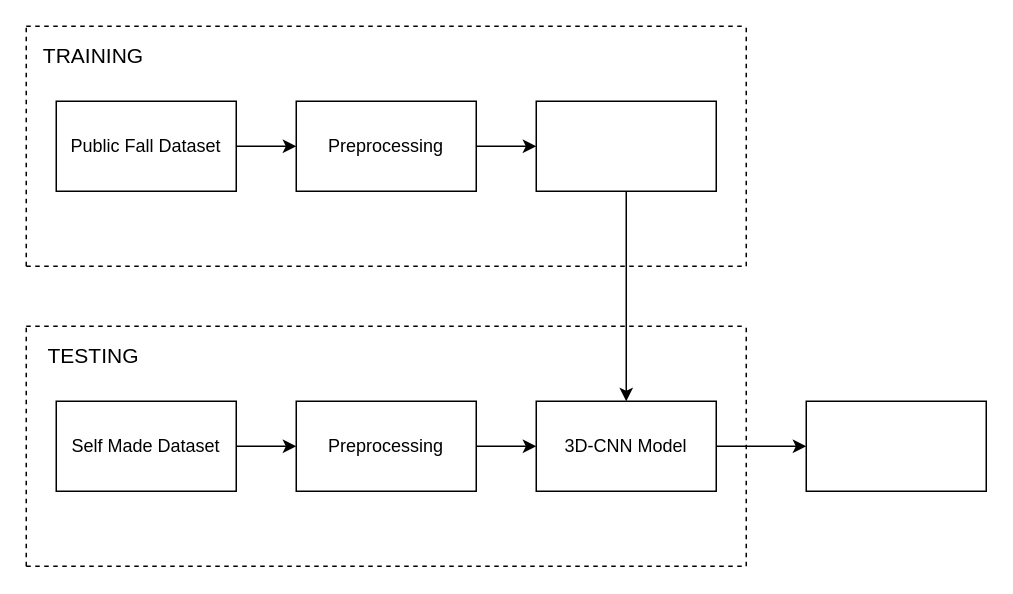
This 1013x594 diagram has some shape labels left out. Here are the shapes that lost their labels. From the top down, the centre of each, then its label:
the point at 625,145: 3D-CNN Model Training
the point at 895,445: Pendeteksi Jatuh
